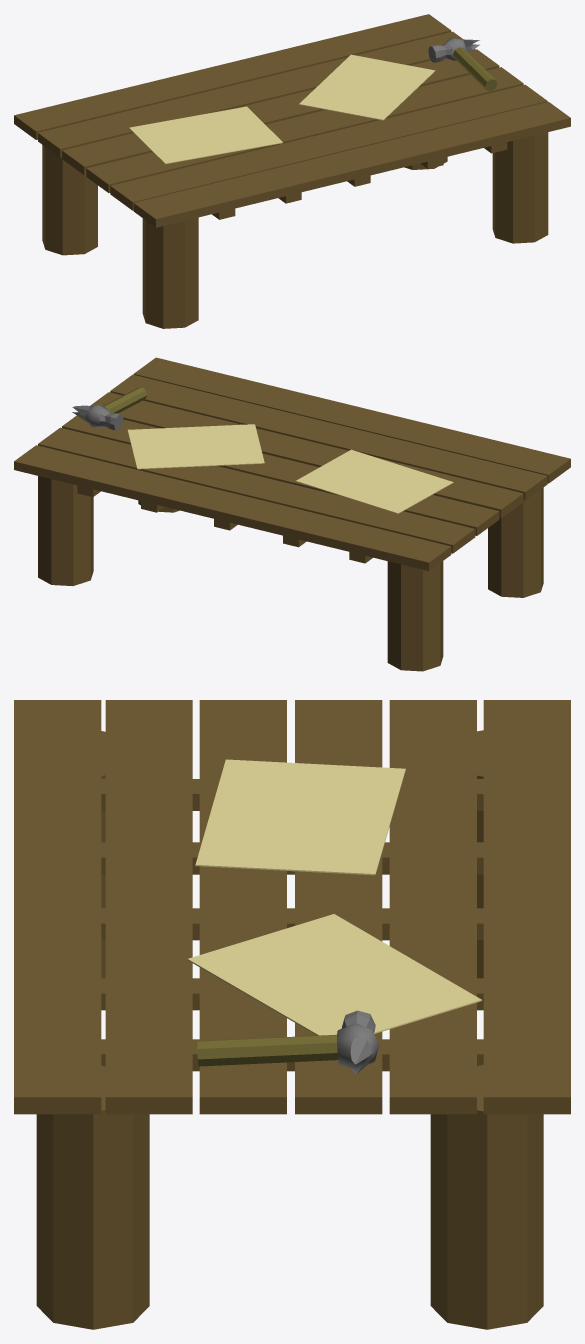
Rendered from CraftingBench.fbx.
3 views of the same model, one above another, from view 1: azimuth 30°, elevation 25°; view 2: azimuth 150°, elevation 25°; view 3: azimuth 270°, elevation 25° (orthographic). The views are drawn at different scales.
Visible parts, largest first — view 1: Table; view 2: Table; view 3: Table.
Part boxes in pixels (left/top/right/bottom): Table: left=14, top=14, right=570, bottom=328; Table: left=14, top=357, right=570, bottom=671; Table: left=14, top=700, right=570, bottom=1329.
Size of the model in its own units: 50.42 by 16.7 by 29.88.
